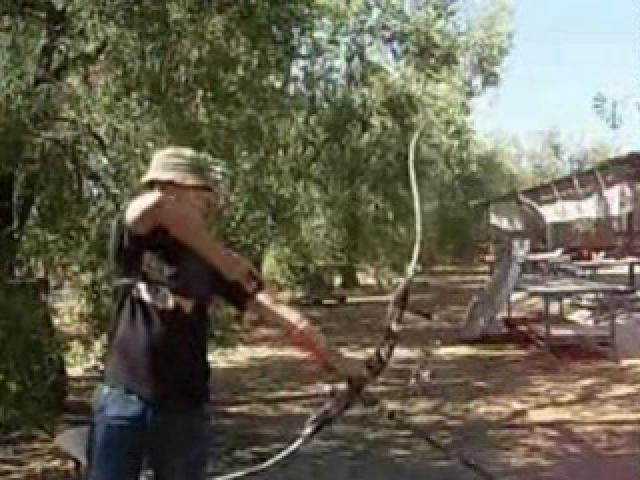I: (59, 137, 383, 480)
